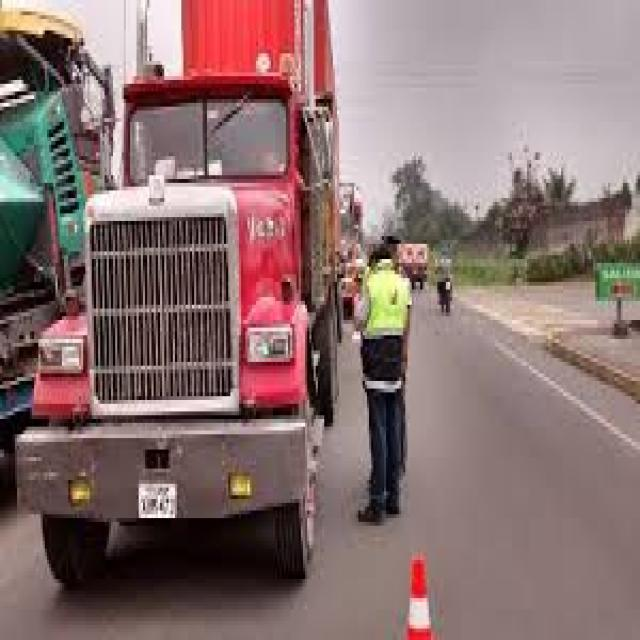MOTORCYCLE: (438, 257, 455, 310)
TRUCK: (36, 60, 324, 593)
